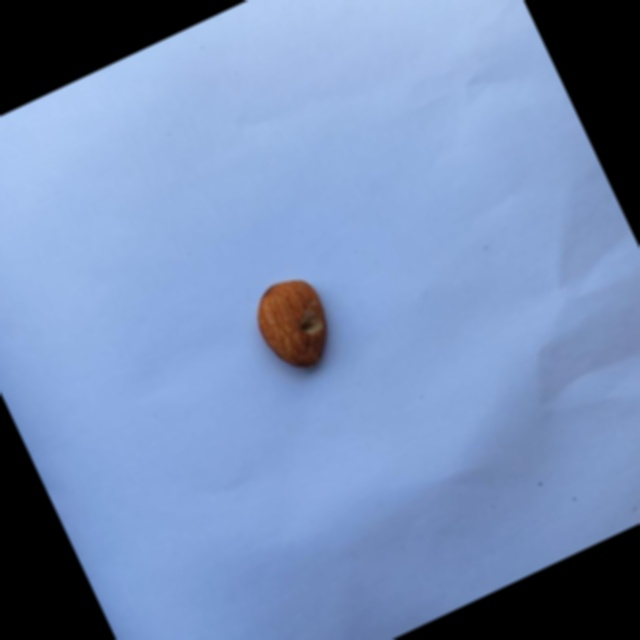grade3: (241, 264, 351, 385)
